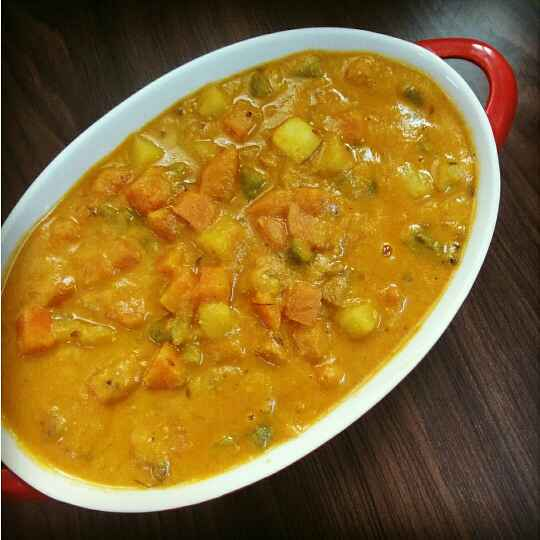curry: (13, 31, 479, 490)
